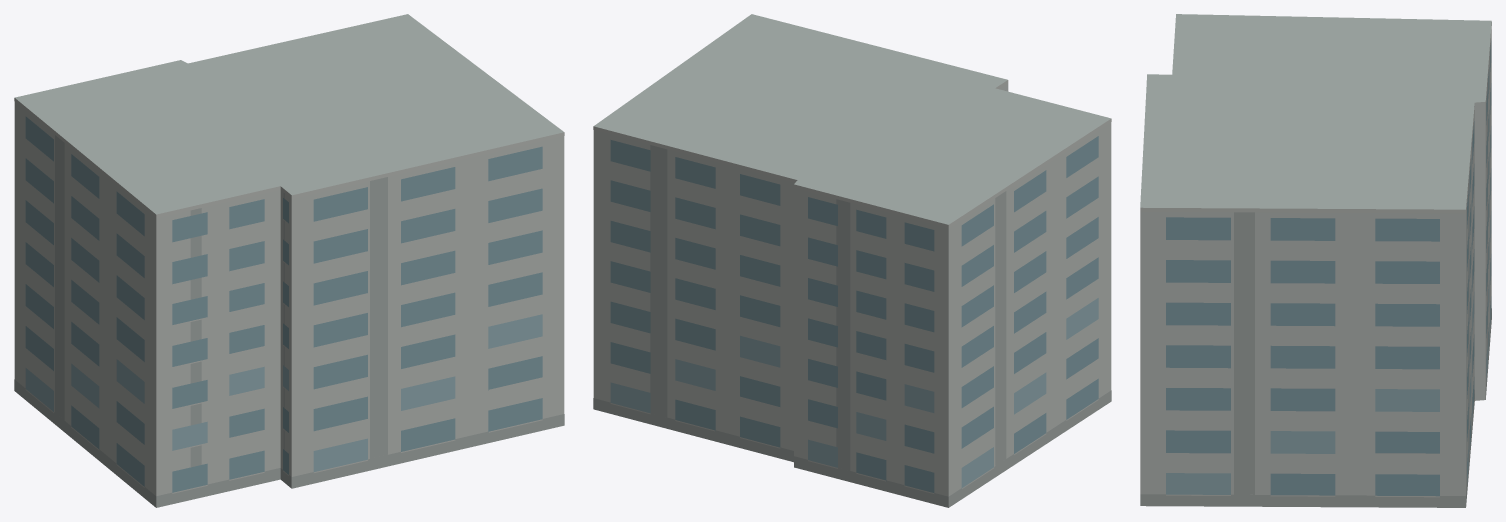
The model's file is survey-upis-32459639.glb.
3 views of the same model, side by side, from view 1: azimuth 30°, elevation 25°; view 2: azimuth 150°, elevation 25°; view 3: azimuth 270°, elevation 25° (orthographic). The views are drawn at different scales.
Visible parts, largest first — view 1: survey-upis-32459639.tmp; view 2: survey-upis-32459639.tmp; view 3: survey-upis-32459639.tmp.
Part boxes in pixels (x1,y1,x2,y2): survey-upis-32459639.tmp: (14,14,564,507); survey-upis-32459639.tmp: (593,14,1111,507); survey-upis-32459639.tmp: (1140,14,1491,507).
Bounding box in the file's own units: 26.6 × 18.9 × 20.2.
